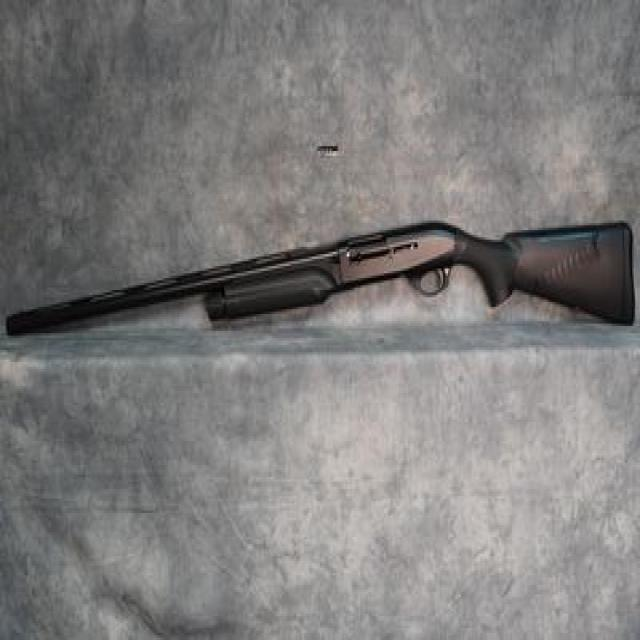ShotGun: (5, 223, 640, 331)
